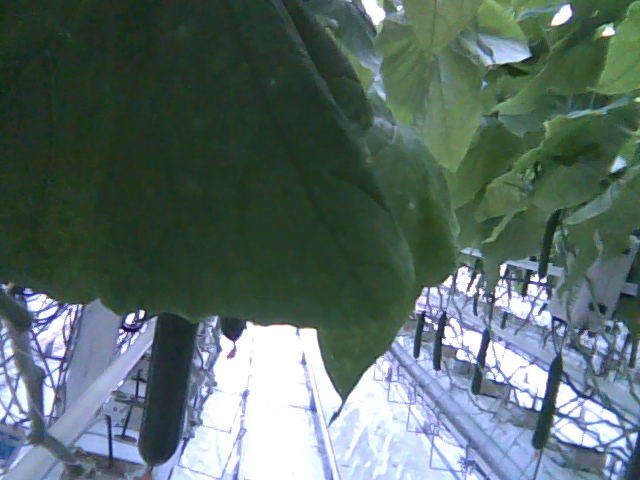concombre: (136, 313, 201, 480)
